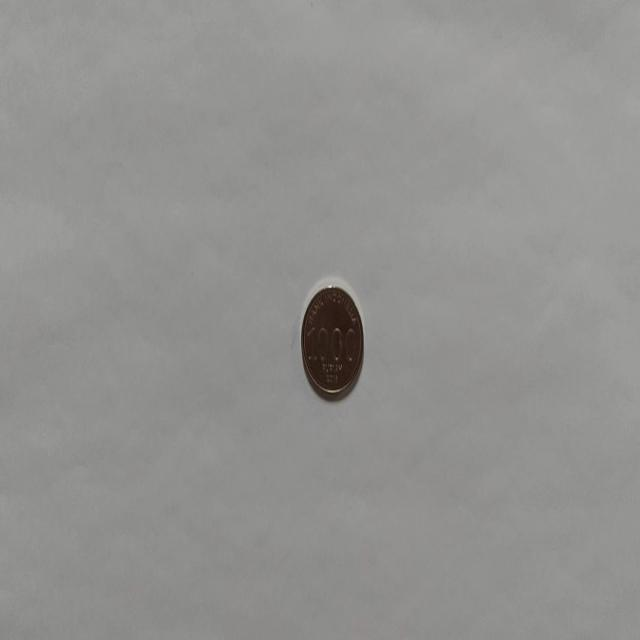seribu rupiah koin: (300, 278, 364, 400)
